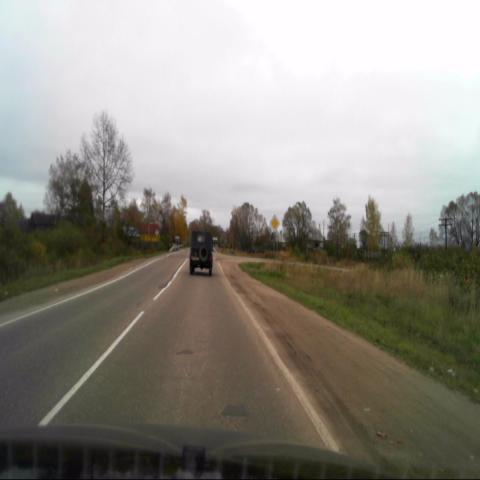2_1: (269, 214, 280, 233)
